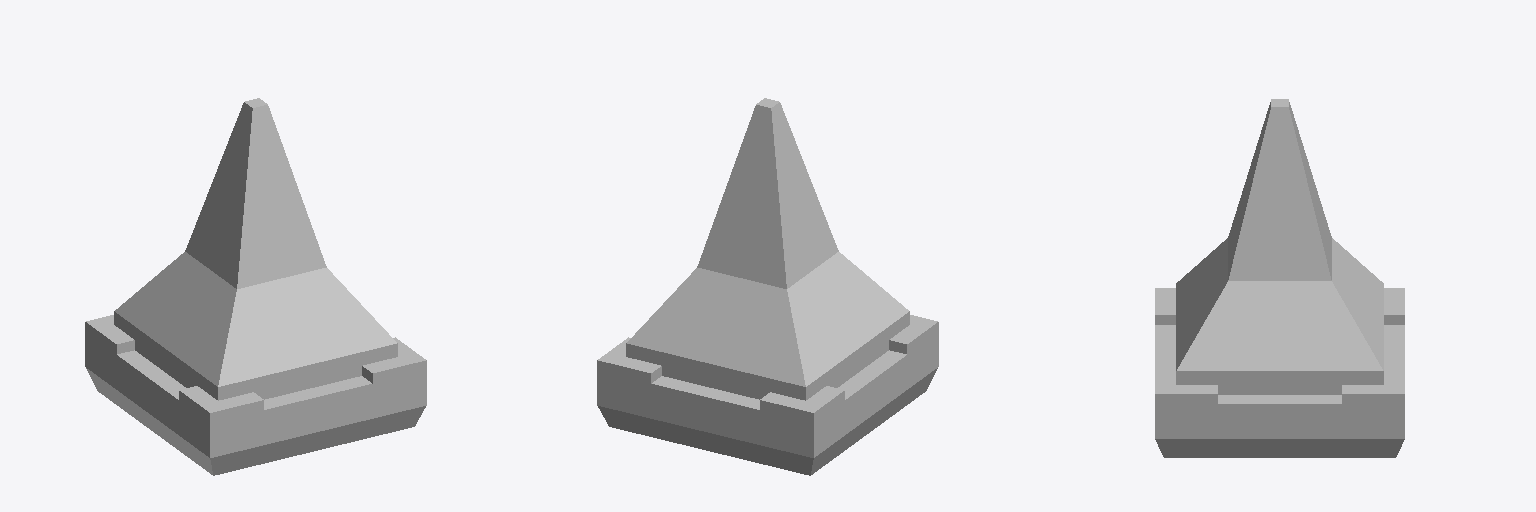
The model's file is towerSquareTopRoofHigh.obj.
3 views of the same model, side by side, from view 1: azimuth 30°, elevation 25°; view 2: azimuth 150°, elevation 25°; view 3: azimuth 270°, elevation 25° (orthographic).
Visible parts, largest first — view 1: towerSquareTopRoofHigh; view 2: towerSquareTopRoofHigh; view 3: towerSquareTopRoofHigh.
Part boxes in pixels (bbox=[...]): towerSquareTopRoofHigh: bbox=[85, 98, 426, 475]; towerSquareTopRoofHigh: bbox=[597, 98, 938, 475]; towerSquareTopRoofHigh: bbox=[1155, 99, 1404, 457].
Bounding box in the file's own units: 10 × 13.5 × 10.